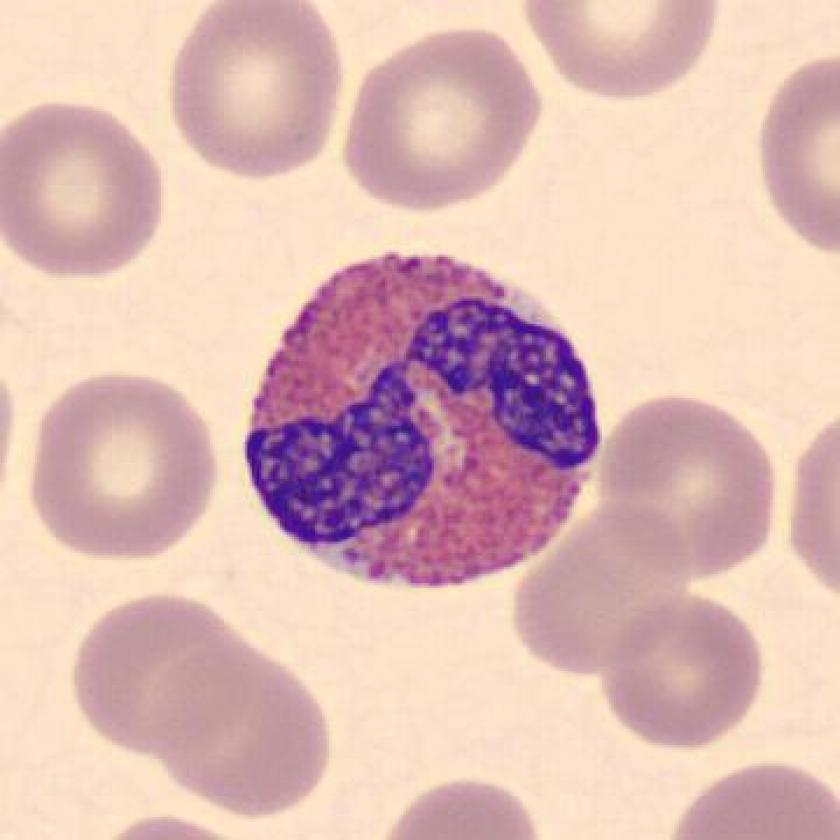eosinophil: (230, 240, 615, 601)
